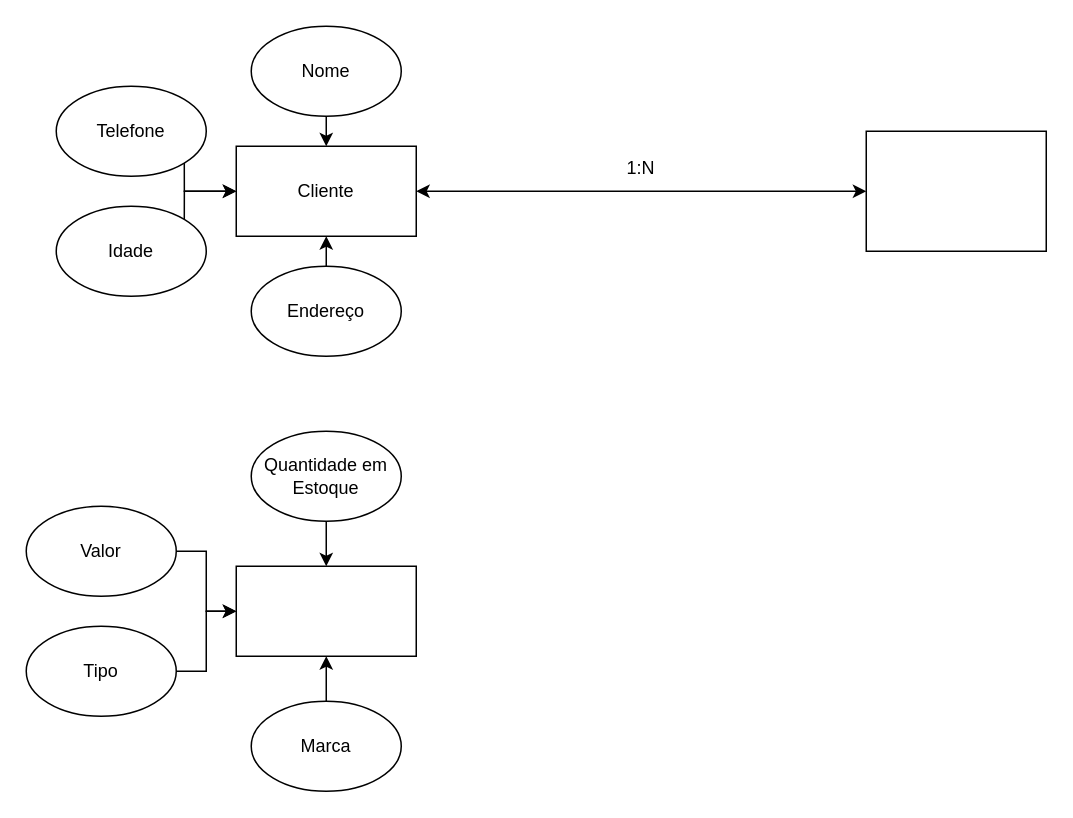
This 1073x818 diagram has some shape labels left out. Each missing label, with the box of its shape:
Conta Pendente: (865, 130, 1046, 251)
Produto: (235, 565, 416, 656)
